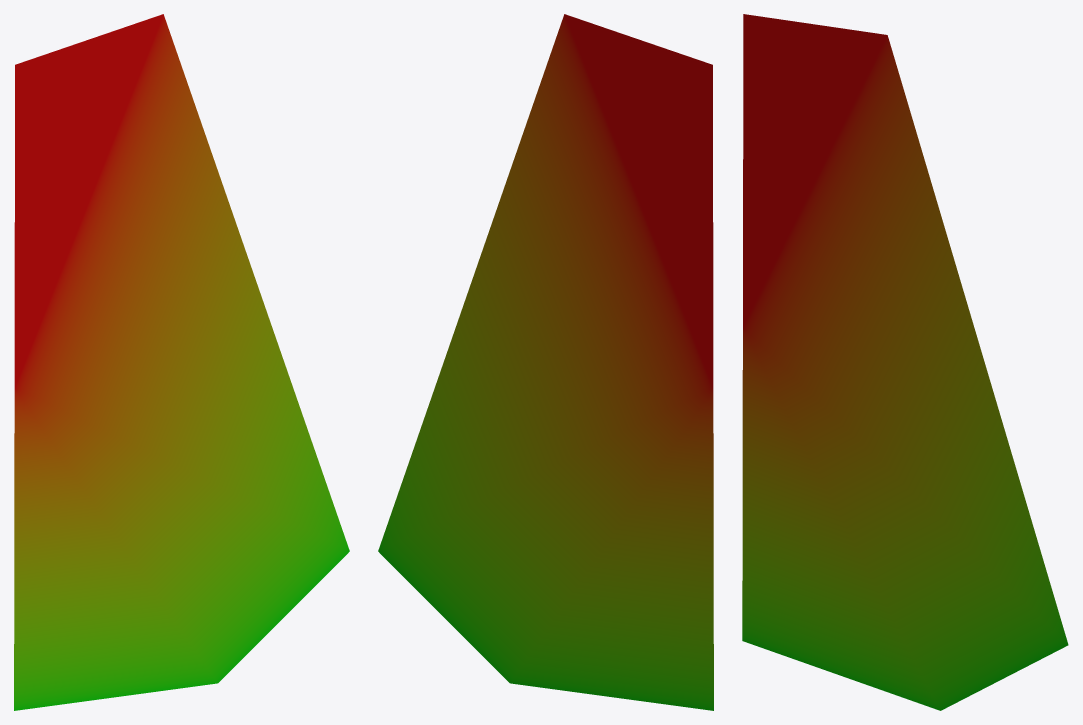
File: Var4_LOD3.fbx
3 views of the same model, side by side, from view 1: azimuth 30°, elevation 25°; view 2: azimuth 150°, elevation 25°; view 3: azimuth 330°, elevation 25° (orthographic). The views are drawn at different scales.
Visible parts, largest first — view 1: Var4_LOD3; view 2: Var4_LOD3; view 3: Var4_LOD3.
Boxes of the visible parts, x1,y1,x2,y2 form: Var4_LOD3: (14,14,349,710); Var4_LOD3: (378,14,713,710); Var4_LOD3: (742,14,1068,710).
Size of the model in its own units: 30.24 by 58.73 by 1.41e-05.
